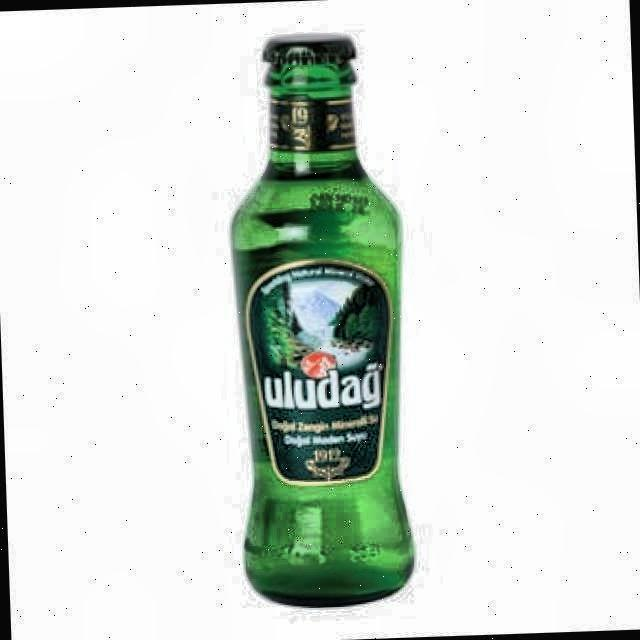glass: (228, 34, 417, 610)
